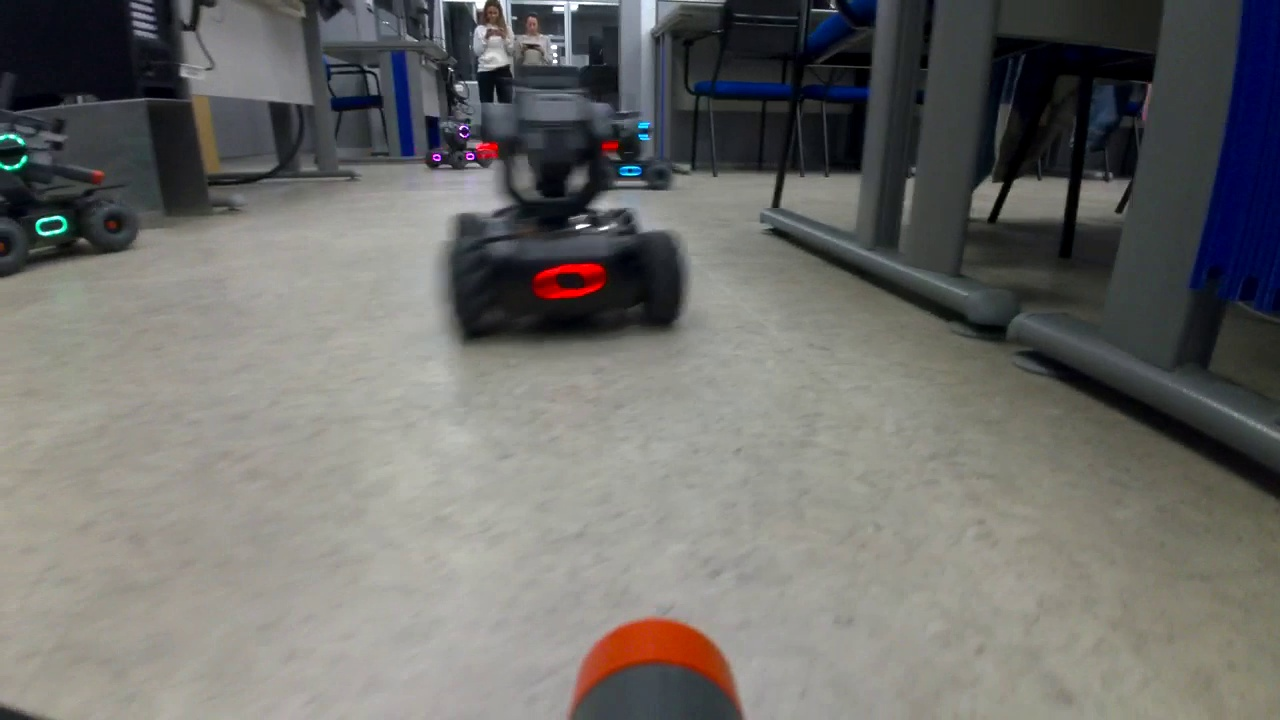robot: (442, 71, 686, 352), (1, 109, 141, 286), (606, 111, 673, 191), (420, 116, 490, 174)
